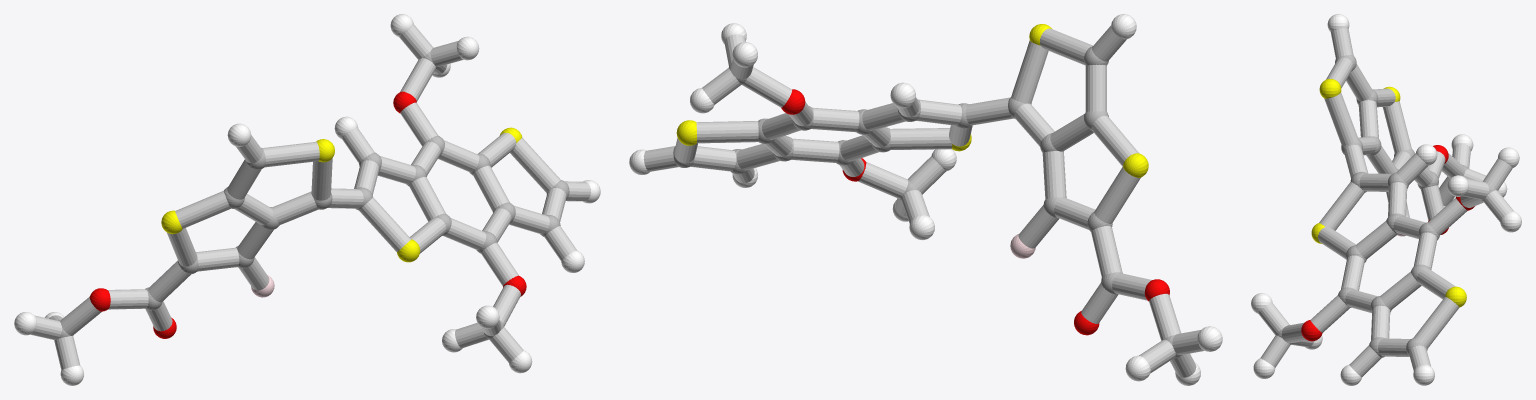
File: color.glb
3 renders of one model, left to right at view 1: azimuth 30°, elevation 25°; view 2: azimuth 150°, elevation 25°; view 3: azimuth 270°, elevation 25°, orthographic. The views are drawn at different scales.
Visible parts, largest first — view 1: grp15205, grp8689, grp1, grp7241, grp13395; view 2: grp15205, grp8689, grp1, grp7241, grp13395; view 3: grp15205, grp8689, grp1, grp7241, grp13395.
Boxes of the visible parts, bbox=[...] form: grp15205: bbox=[30, 25, 590, 369]; grp8689: bbox=[14, 14, 600, 385]; grp1: bbox=[58, 51, 569, 339]; grp7241: bbox=[161, 127, 522, 262]; grp13395: bbox=[89, 91, 526, 338]; grp15205: bbox=[643, 26, 1204, 377]; grp8689: bbox=[629, 14, 1222, 385]; grp1: bbox=[673, 46, 1181, 358]; grp7241: bbox=[676, 24, 1148, 177]; grp13395: bbox=[781, 89, 1169, 335]; grp15205: bbox=[1258, 28, 1513, 377]; grp8689: bbox=[1251, 14, 1521, 385]; grp1: bbox=[1276, 55, 1495, 357]; grp7241: bbox=[1311, 79, 1466, 307]; grp13395: bbox=[1301, 145, 1474, 341].
Size of the model in its own units: 16.5 by 7.76 by 7.47.
